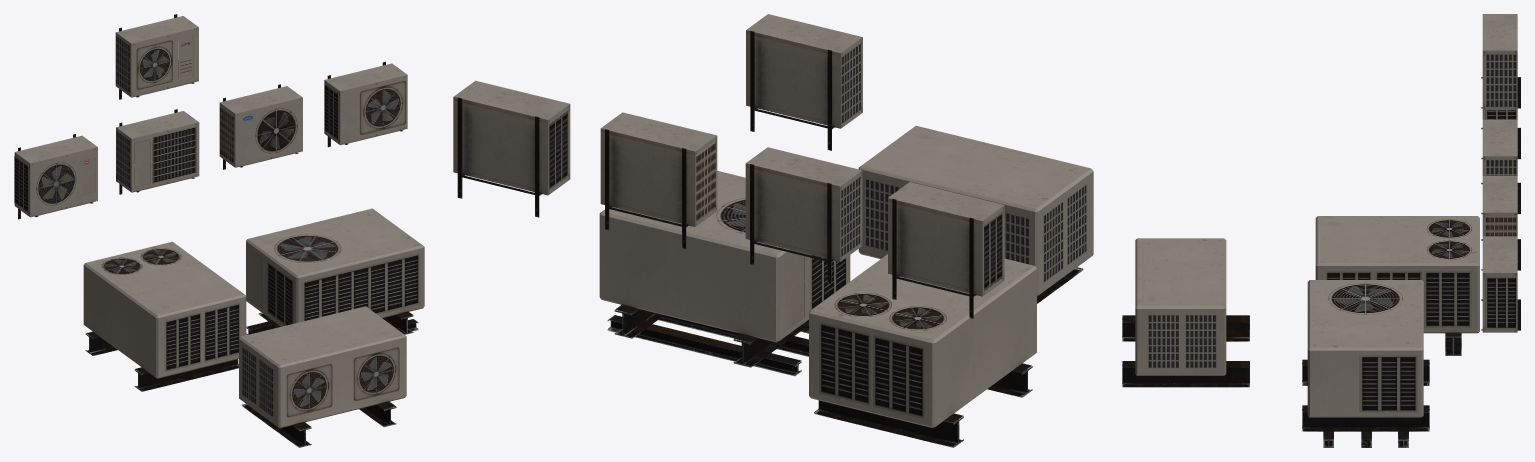
The model's file is ACCondenserSet.obj.
The picture shows the model from 3 angles, left to right: view 1: azimuth 30°, elevation 25°; view 2: azimuth 150°, elevation 25°; view 3: azimuth 270°, elevation 25°; orthographic projection. The views are drawn at different scales.
Parts seen in each view (by area): view 1: Object_0; view 2: Object_0; view 3: Object_0.
Part boxes in pixels (left/top/right/bottom): Object_0: left=14, top=14, right=424, bottom=447; Object_0: left=453, top=14, right=1093, bottom=447; Object_0: left=1122, top=14, right=1520, bottom=447.
Bounding box in the file's own units: 6.21 × 4.53 × 5.12.
Materials: 1 (1 with a texture image).
